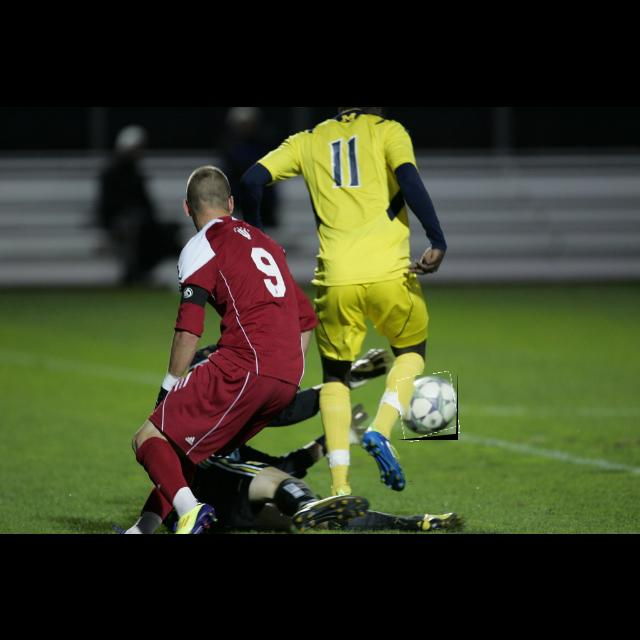Football: (398, 374, 458, 440)
